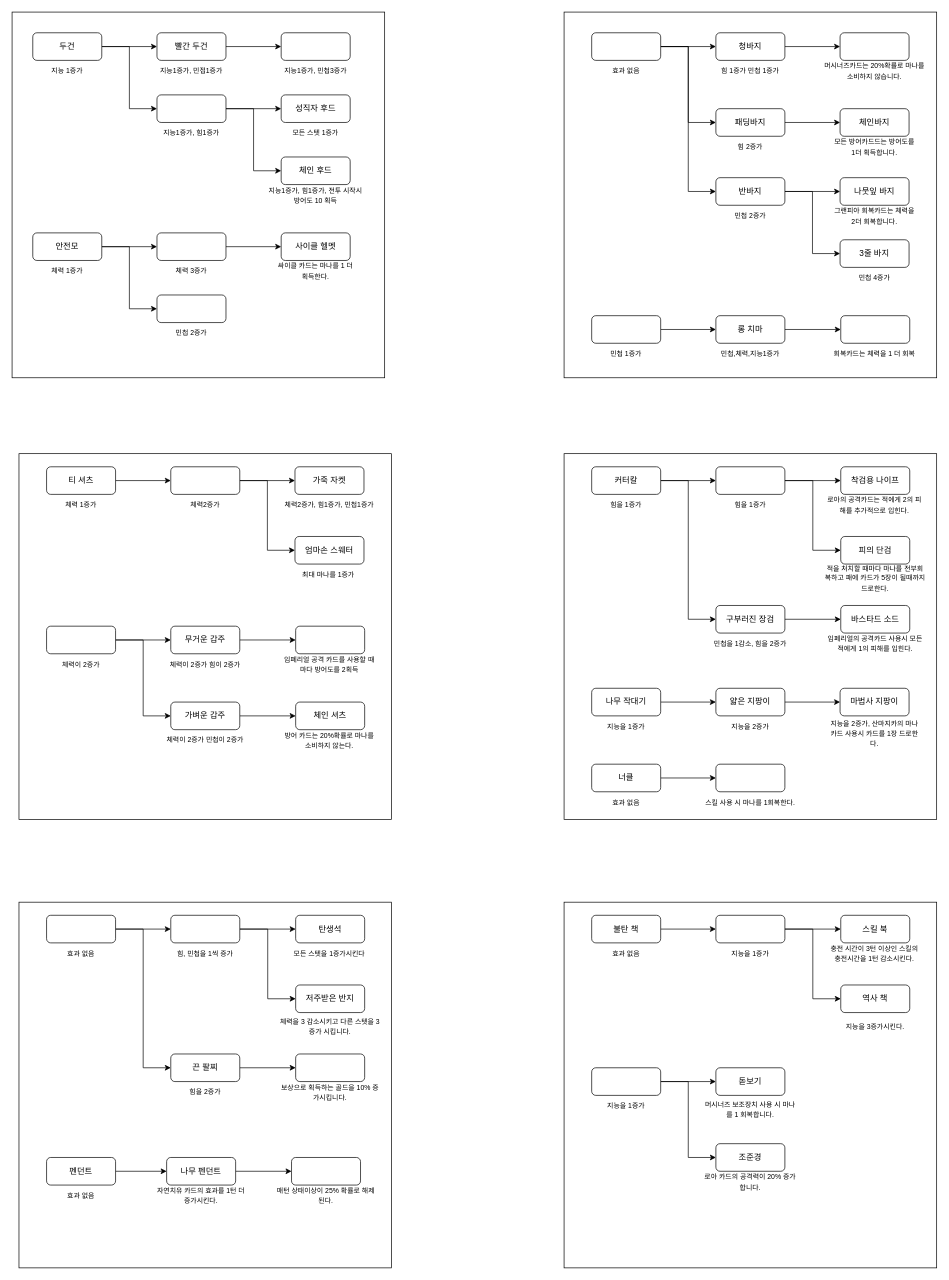
Some shapes in this 949 by 1280 pixel diagram are drawn without their labels. The box of each missing label's shape, as (x1, y1, x2, y2) in pixels:
교양 책: (715, 915, 785, 943)
금 팔찌: (295, 1053, 365, 1082)
단검: (715, 466, 785, 494)
돌반지: (46, 915, 116, 943)
라이더 두건: (280, 32, 350, 60)
바지: (591, 32, 661, 60)
성직자 치마: (840, 315, 910, 343)
안경: (591, 1067, 661, 1095)
야구 모자: (156, 294, 226, 323)
얄은 철판: (46, 625, 116, 654)
엔지니어 바지: (839, 32, 909, 60)
장식용 반지: (170, 915, 240, 943)
치마: (591, 315, 661, 343)
폴라 티: (170, 466, 240, 494)
플레이트 갑옷: (295, 625, 365, 654)
행운의 목걸이: (291, 1157, 361, 1185)
헬멧: (156, 232, 226, 260)
효율의 너클: (715, 763, 785, 792)
후드: (156, 94, 226, 122)
